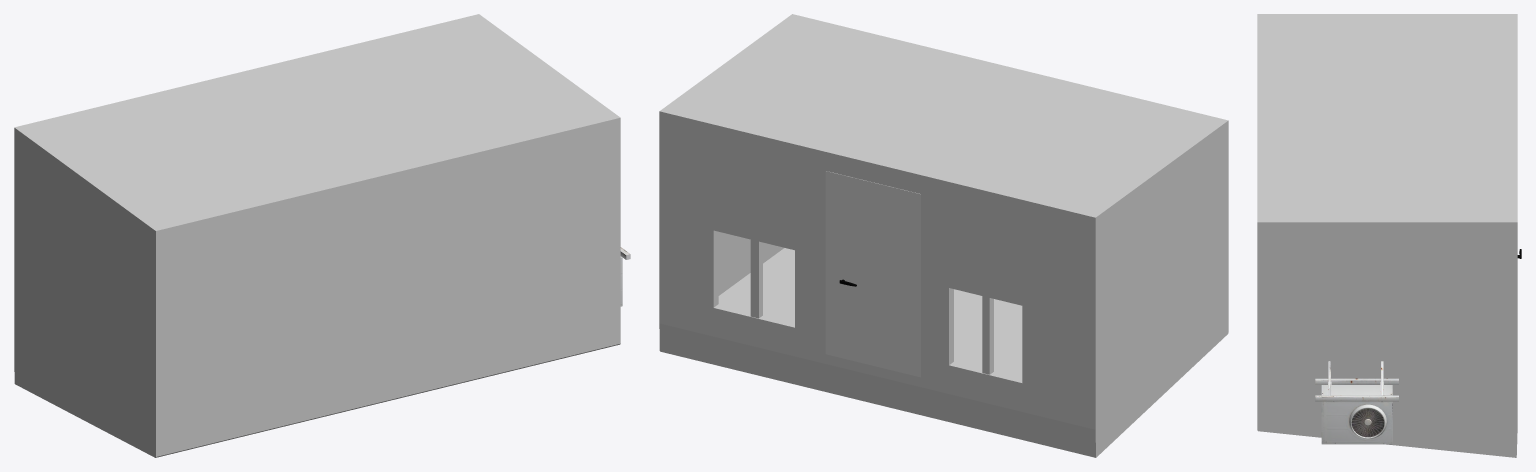
File: House.fbx
3 renders of one model, left to right at view 1: azimuth 30°, elevation 25°; view 2: azimuth 150°, elevation 25°; view 3: azimuth 270°, elevation 25°, orthographic. The views are drawn at different scales.
Parts seen in each view (by area): view 1: Cube.001; view 2: Cube.001, Door_Metal_Double_A; view 3: Cube.001, Aircon 1.
Boxes of the visible parts, left/top/right/bottom form: Cube.001: left=14, top=14, right=620, bottom=457; Cube.001: left=659, top=14, right=1228, bottom=457; Door_Metal_Double_A: left=825, top=171, right=920, bottom=377; Cube.001: left=1257, top=14, right=1517, bottom=457; Aircon 1: left=1315, top=361, right=1398, bottom=444.
Bounding box in the file's own units: 1316 × 636 × 648.
4 materials, 2 textured.
